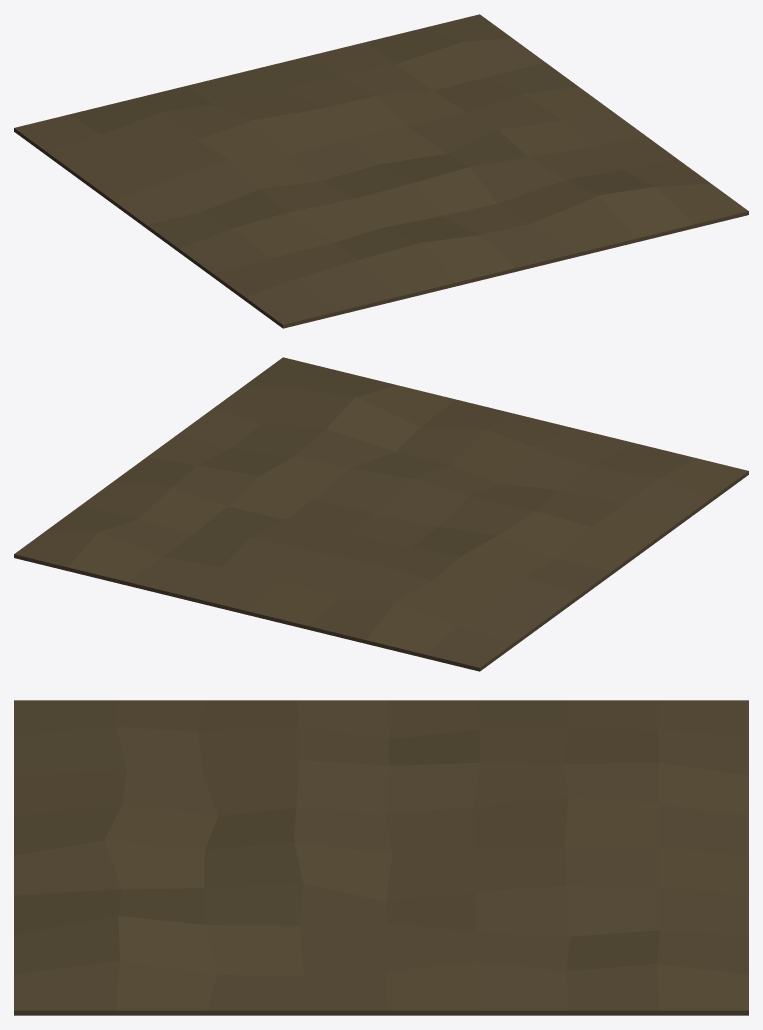
Rendered from BigGround.2.fbx.
The picture shows the model from 3 angles, top to bottom: view 1: azimuth 30°, elevation 25°; view 2: azimuth 150°, elevation 25°; view 3: azimuth 270°, elevation 25°; orthographic projection. The views are drawn at different scales.
Visible parts, largest first — view 1: Floor.2; view 2: Floor.2; view 3: Floor.2.
Boxes of the visible parts, x1,y1,x2,y2 form: Floor.2: (14,14,748,328); Floor.2: (14,357,748,671); Floor.2: (14,700,748,1015).
Bounding box in the file's own units: 1299 × 90.57 × 1300.
